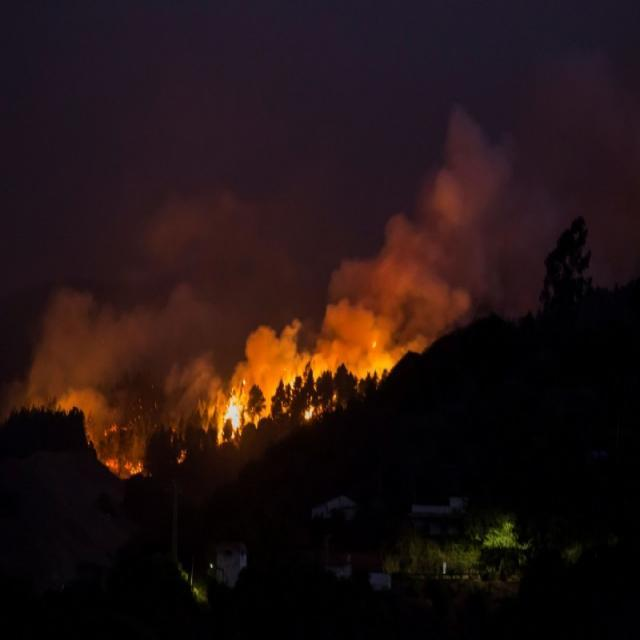Fire: (206, 376, 253, 448), (104, 452, 143, 482), (300, 404, 318, 421)
